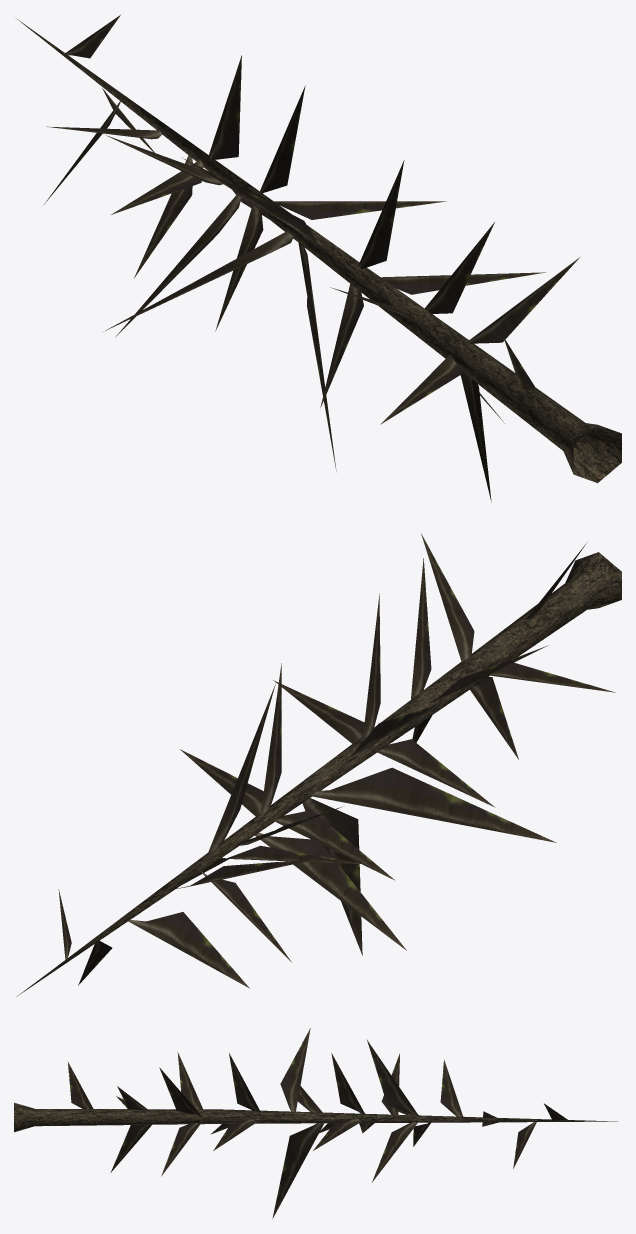
The model's file is MEP_Con_01_h.fbx.
3 views of the same model, one above another, from view 1: azimuth 30°, elevation 25°; view 2: azimuth 150°, elevation 25°; view 3: azimuth 270°, elevation 25° (orthographic). The views are drawn at different scales.
Parts seen in each view (by area): view 1: MEP_Con_01_h, MEP_ConTrunk_01_h; view 2: MEP_Con_01_h, MEP_ConTrunk_01_h; view 3: MEP_Con_01_h, MEP_ConTrunk_01_h.
Part boxes in pixels (x1,y1,x2,y2): MEP_Con_01_h: (44, 15, 579, 502); MEP_ConTrunk_01_h: (16, 18, 621, 483); MEP_Con_01_h: (58, 533, 615, 988); MEP_ConTrunk_01_h: (17, 552, 621, 996); MEP_Con_01_h: (67, 1028, 568, 1218); MEP_ConTrunk_01_h: (14, 1102, 617, 1132).
Size of the model in its own units: 8.72 by 7.93 by 24.28.
